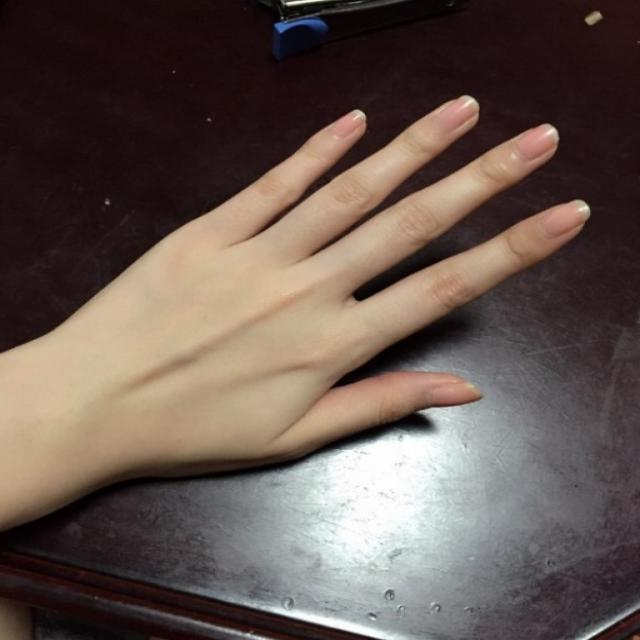Nail: (540, 199, 591, 240), (511, 123, 559, 159), (430, 381, 485, 406), (438, 96, 477, 127), (325, 112, 366, 137)
